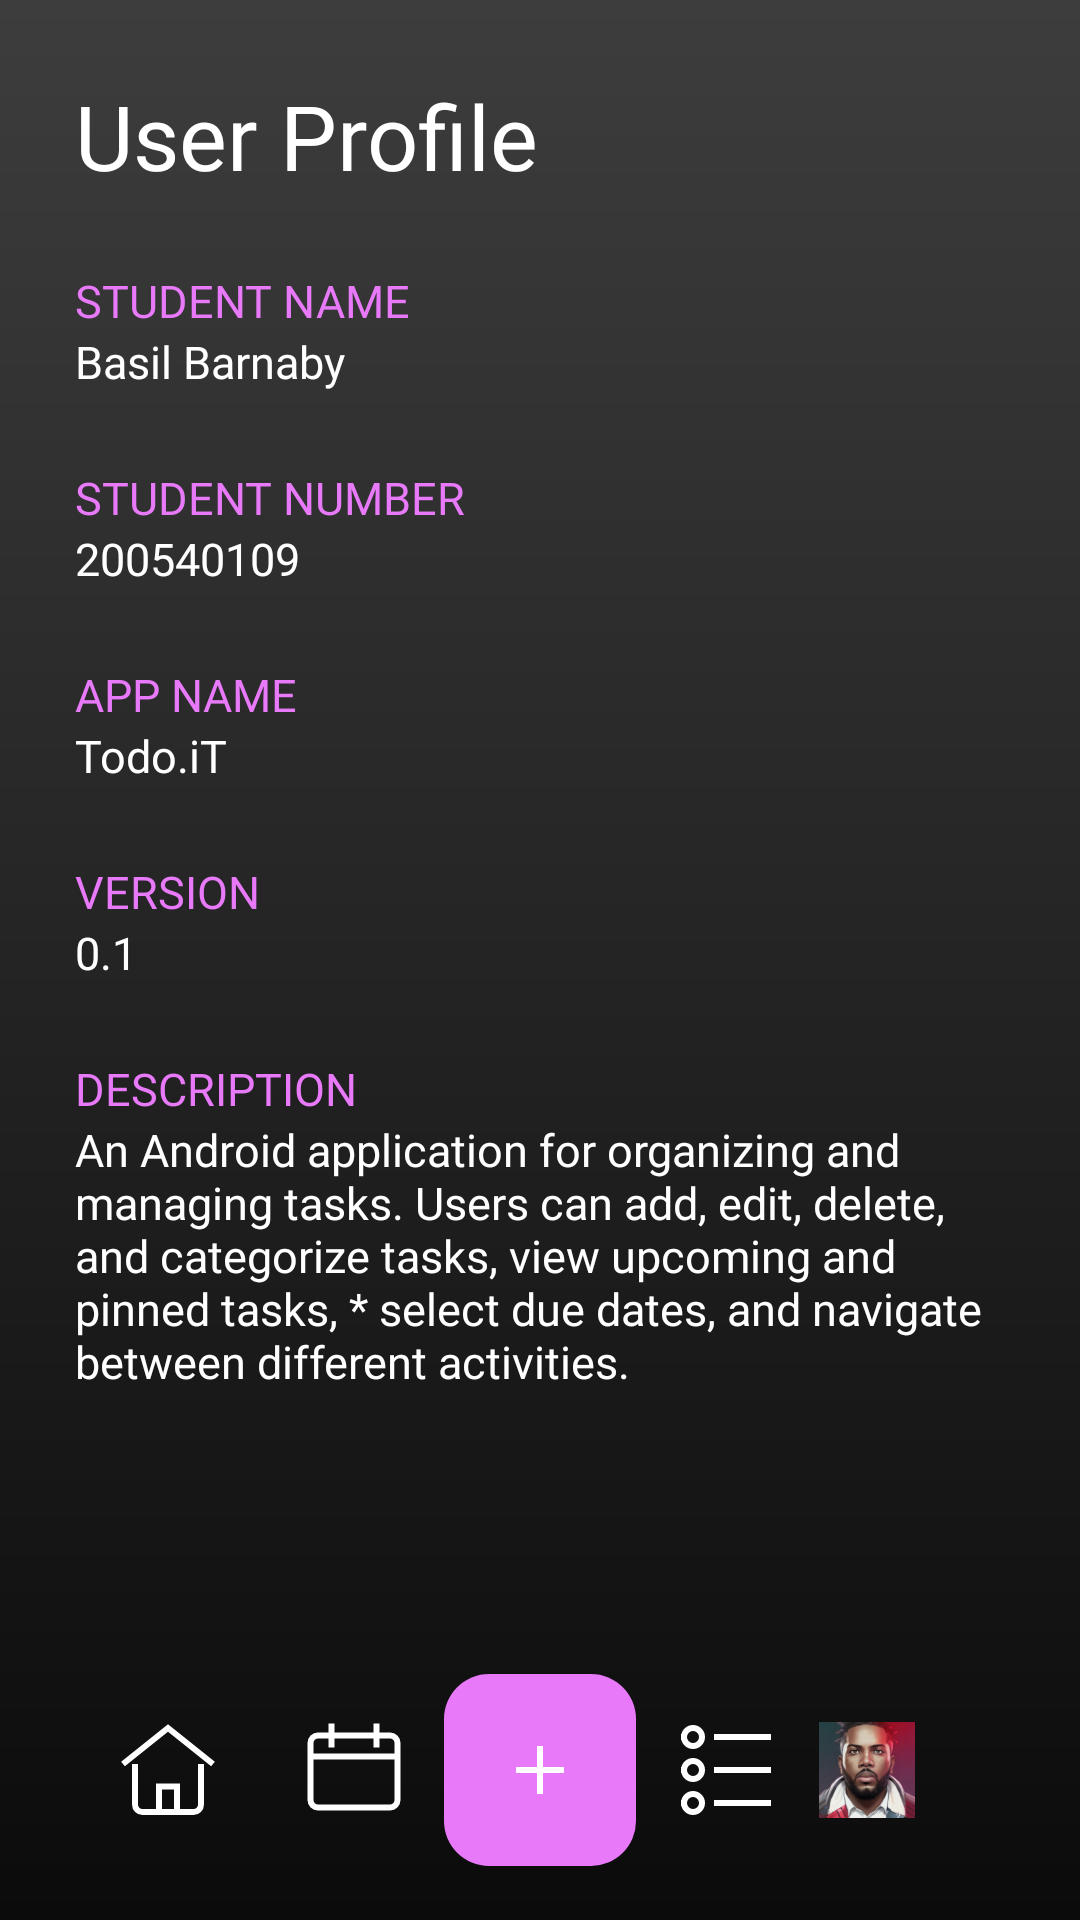

Icons on this 1080×1920 Android screen, each with the point to tap as (x=x, y=y):
Add icon: (x=540, y=1770)
Calendar icon: (x=354, y=1767)
Home icon: (x=168, y=1769)
list icon: (x=726, y=1770)
User profile icon: (x=867, y=1770)
